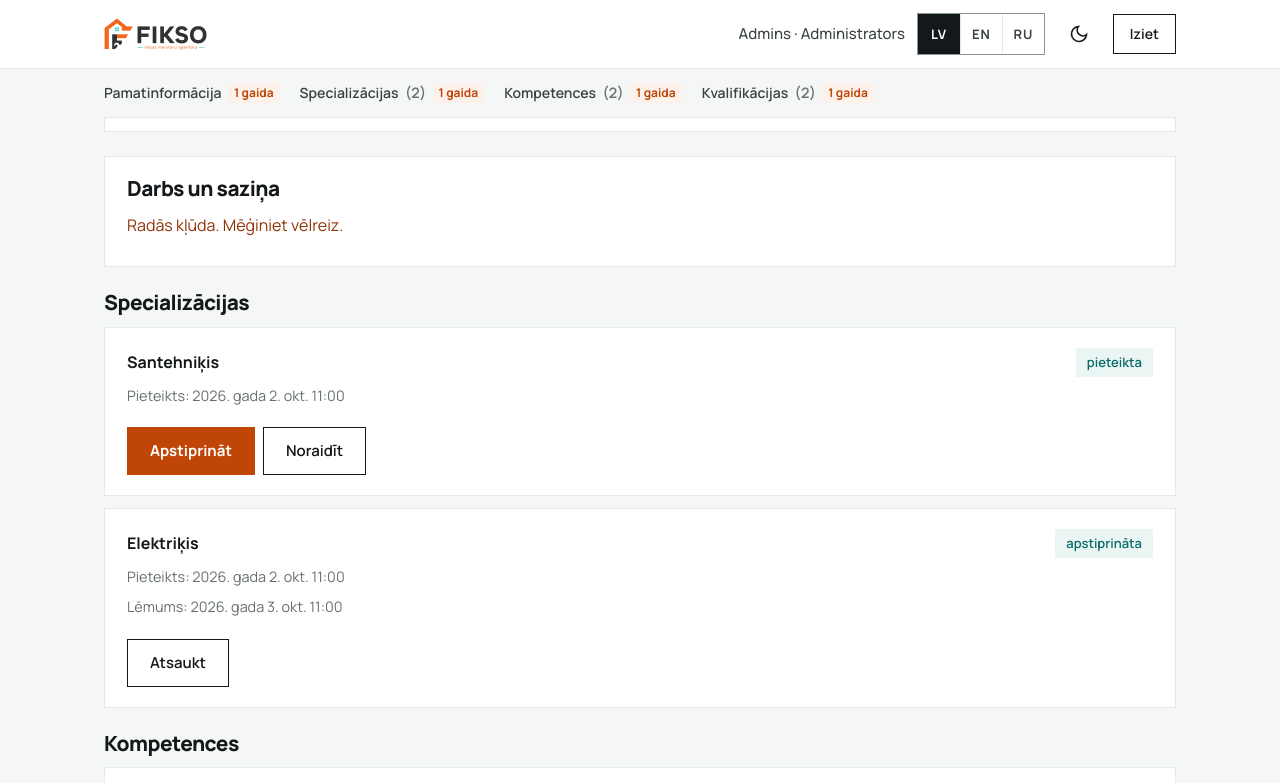
Test: master card: decisions › specialisation reject asks for a reason and a confirmation
(page scrolled)
Click the button with aria-label "Noraidīt: Santehniķis" at (315, 451), box left=263, top=427, right=366, bottom=475
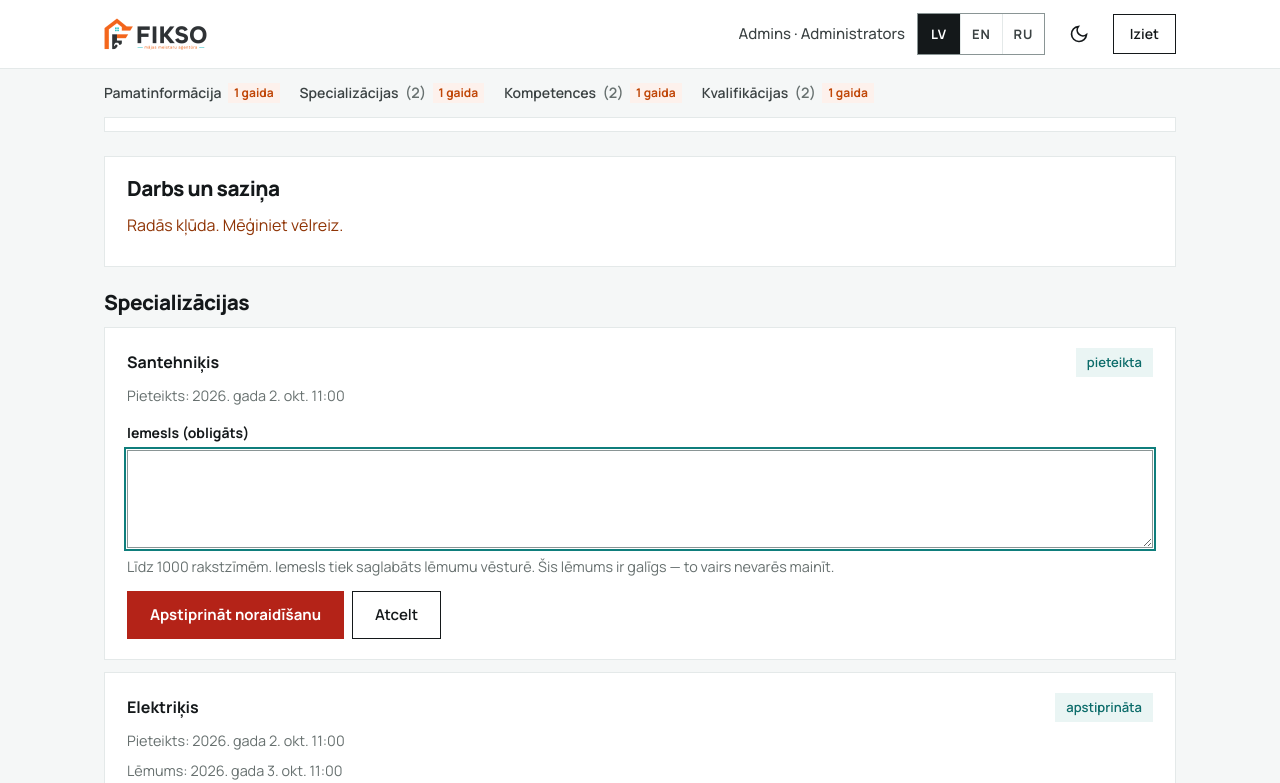
Type "  Dokuments neatbilst  " into the text box labelled "Iemesls (obligāts)" at (640, 500), box left=127, top=450, right=1153, bottom=548
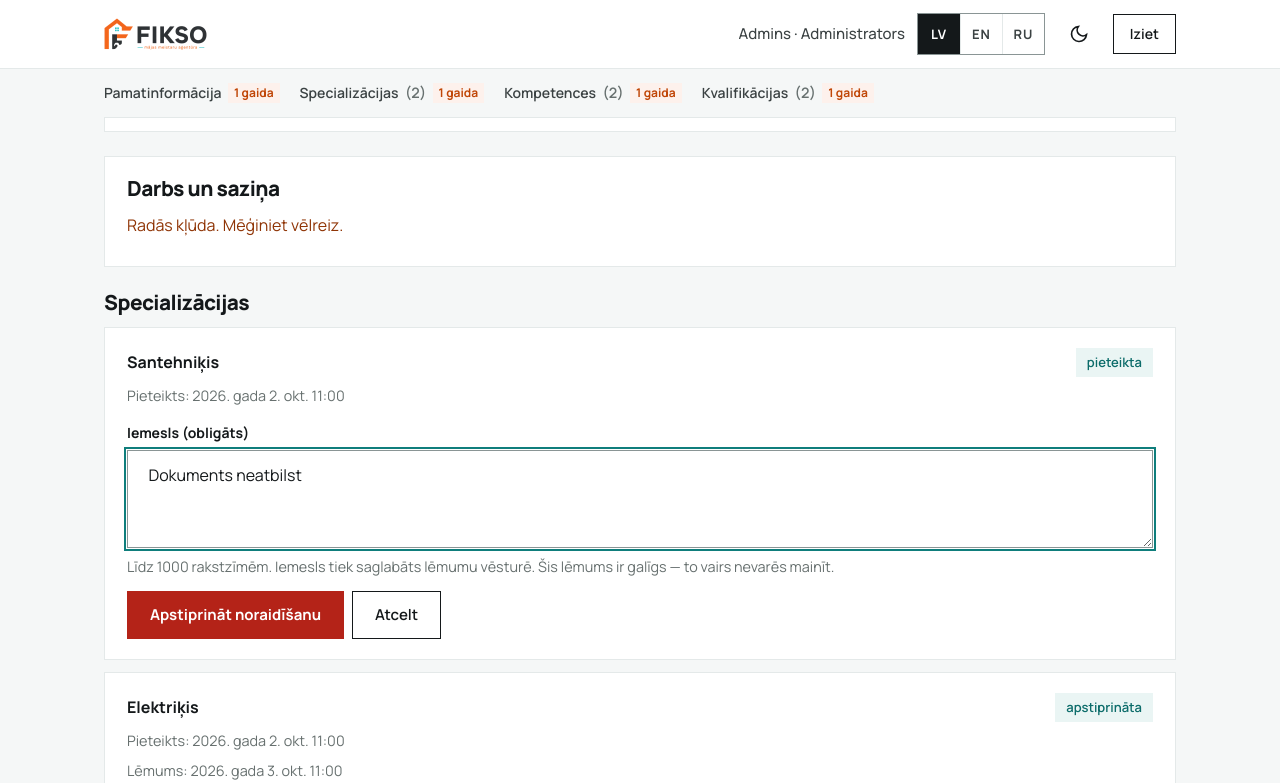
Click the button "Apstiprināt noraidīšanu" at (236, 615), box left=127, top=591, right=344, bottom=639
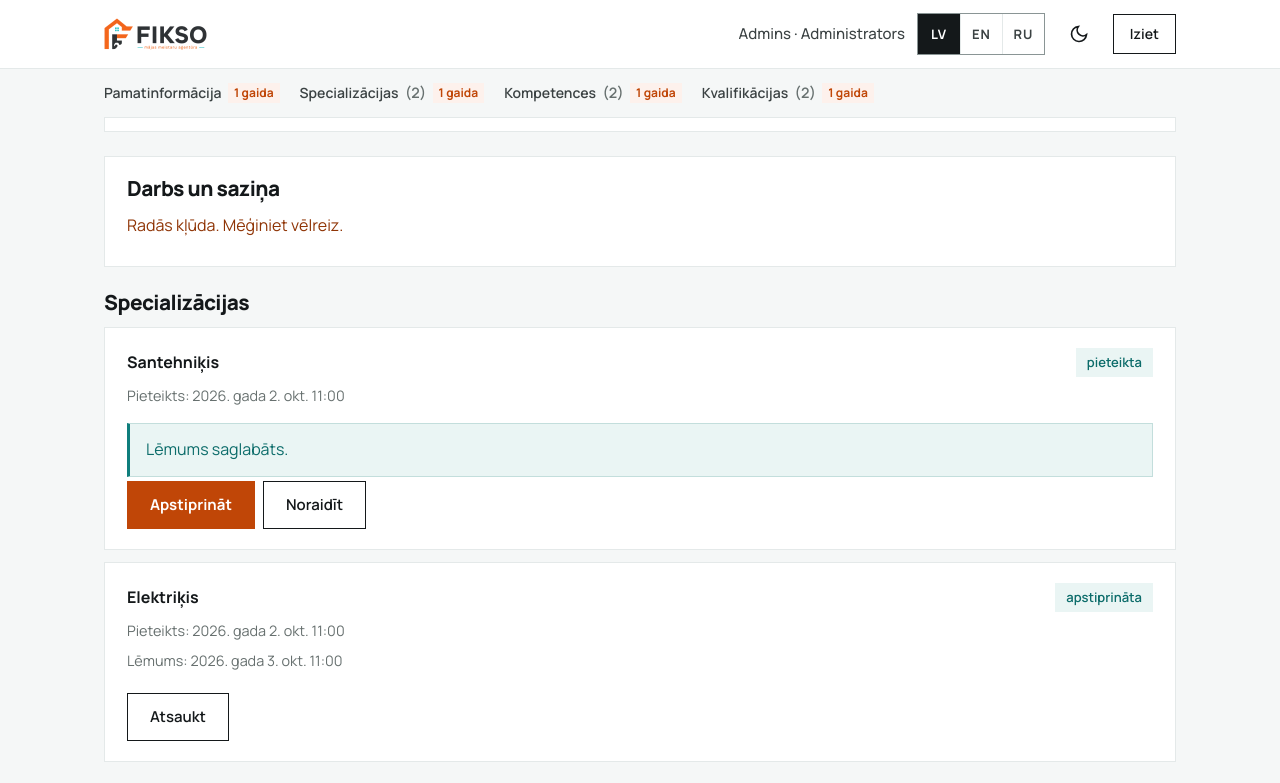
Expected: the text "Lēmums saglabāts." is shown, left=127, top=423, right=1153, bottom=477
Expected: the label labelled "Iemesls (obligāts)" is gone
